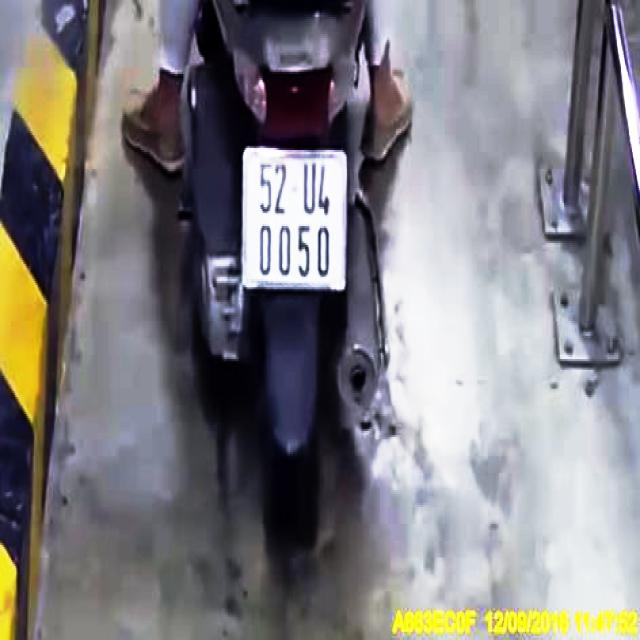license_plate: (244, 146, 347, 289)
